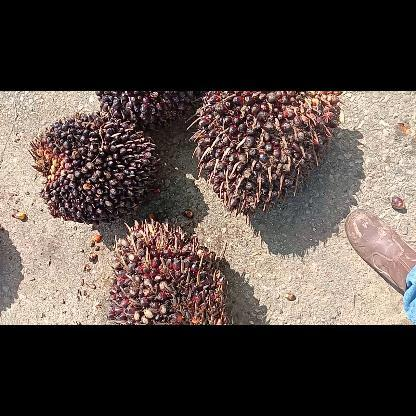TBS mentah: (184, 90, 346, 226), (28, 111, 160, 225), (106, 216, 232, 324), (95, 90, 202, 132)
